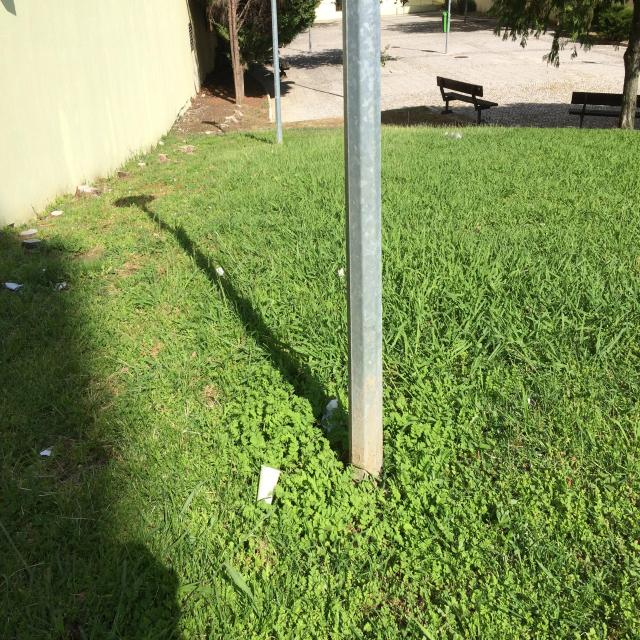litter: (254, 460, 285, 509)
